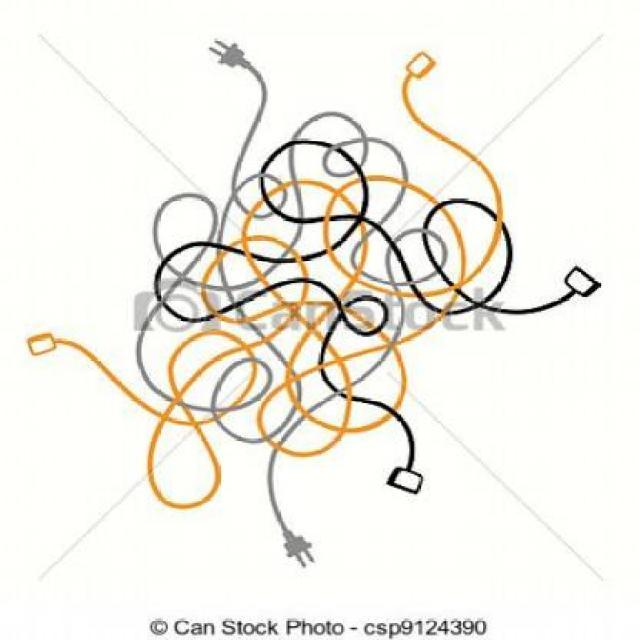garbage: (88, 28, 566, 554)
